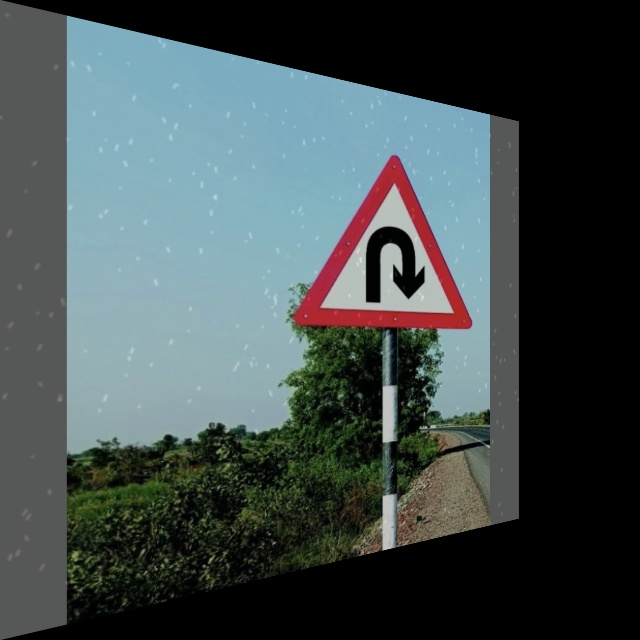Right_Hair_Pin_Bend: (295, 139, 472, 330)
